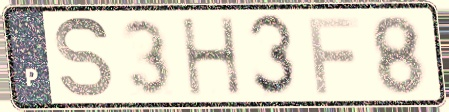3: (244, 11, 302, 101), (120, 17, 175, 97)
8: (370, 12, 430, 97)
F: (304, 13, 362, 97)
H: (177, 14, 245, 99)
S: (53, 13, 117, 102)
